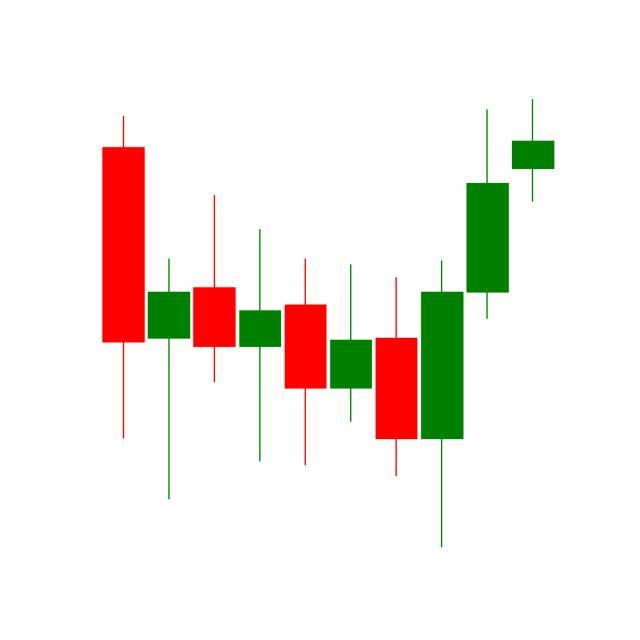Hikkake Pattern: (283, 105, 512, 548)
